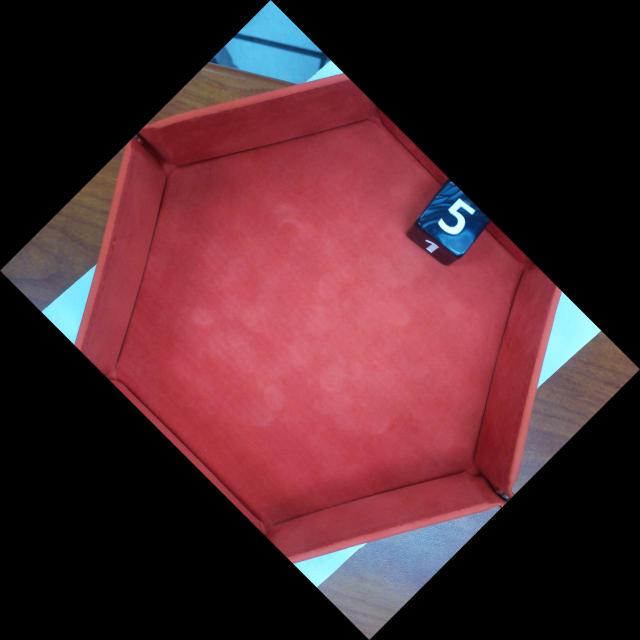dice: (416, 179, 490, 257)
